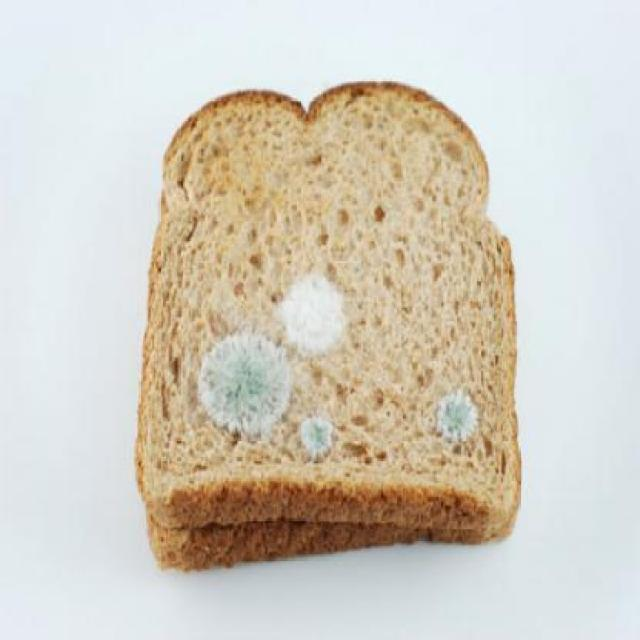mold_bread: (193, 333, 290, 436), (276, 276, 358, 352), (430, 387, 484, 445), (298, 416, 336, 458)
